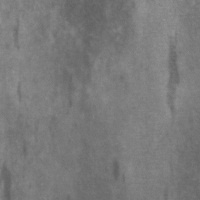inclusion: (55, 2, 129, 91), (159, 30, 183, 121), (10, 10, 29, 50), (107, 152, 130, 185), (0, 162, 18, 199)
